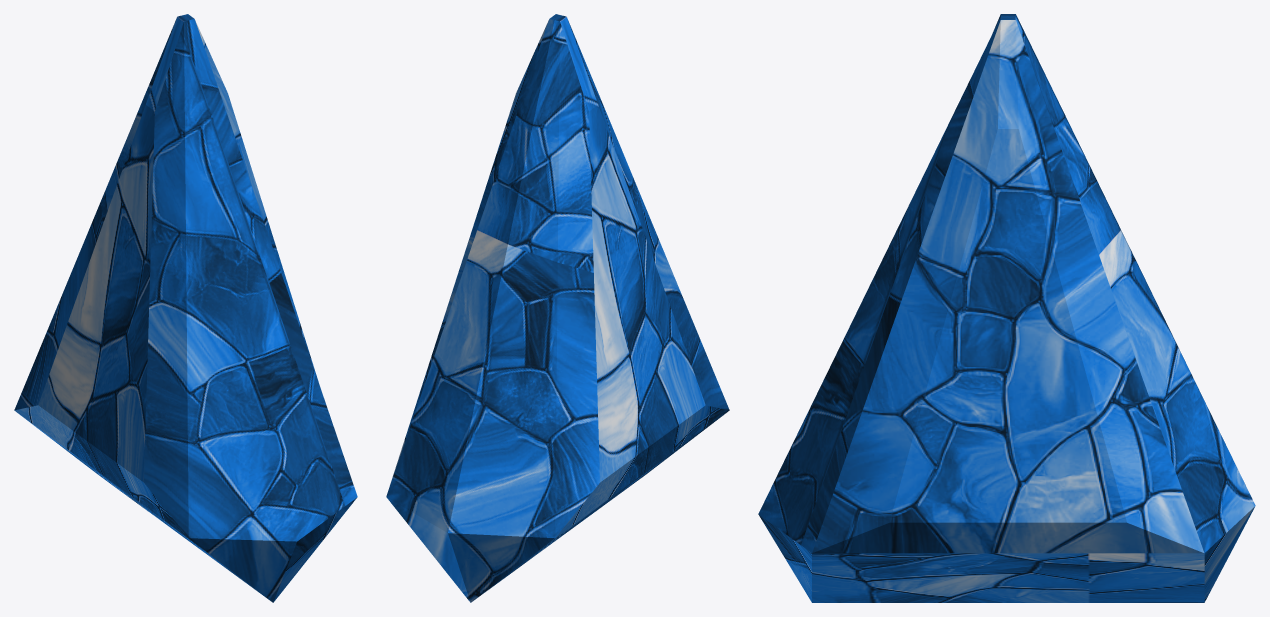
Rendered from gemstone4Blue.glb.
3 renders of one model, left to right at view 1: azimuth 30°, elevation 25°; view 2: azimuth 150°, elevation 25°; view 3: azimuth 270°, elevation 25°, orthographic. The views are drawn at different scales.
Parts seen in each view (by area): view 1: gemstone3; view 2: gemstone3; view 3: gemstone3.
Boxes of the visible parts, x1,y1,x2,y2 form: gemstone3: [14, 14, 357, 602]; gemstone3: [386, 14, 729, 602]; gemstone3: [758, 14, 1255, 602].
Bounding box in the file's own units: 0.5 × 1.3 × 1.
1 material, 1 textured.
